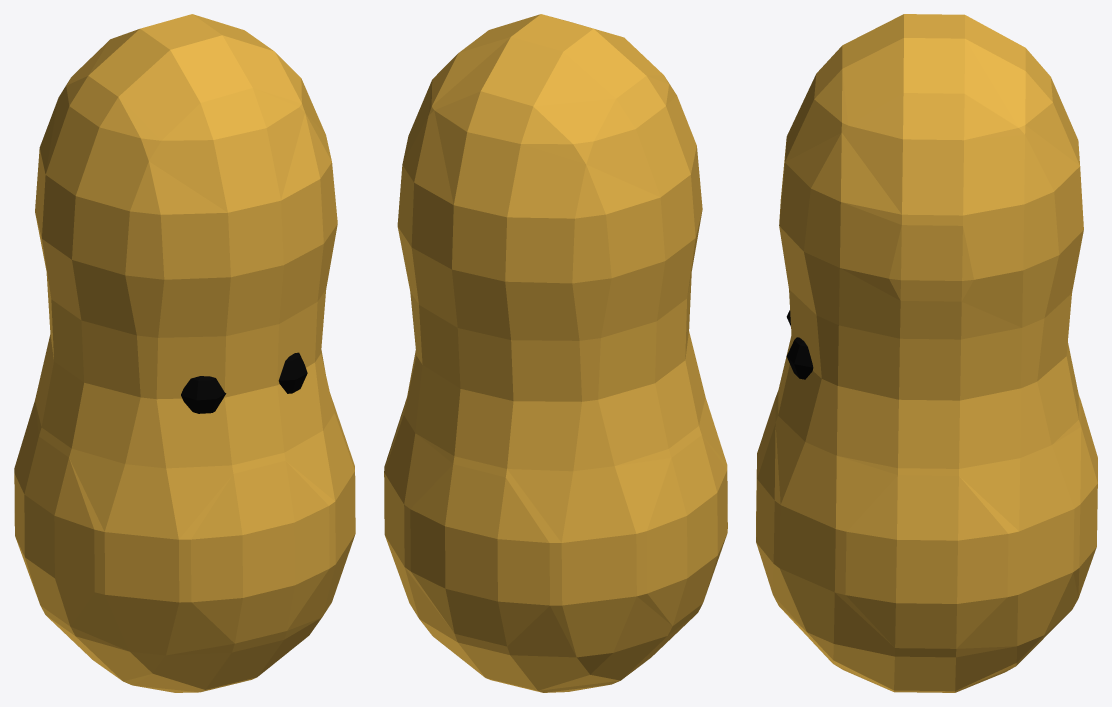
Rendered from Peanut.fbx.
The picture shows the model from 3 angles, left to right: view 1: azimuth 30°, elevation 25°; view 2: azimuth 150°, elevation 25°; view 3: azimuth 270°, elevation 25°; orthographic projection.
Visible parts, largest first — view 1: Sphere, Sphere.001; view 2: Sphere; view 3: Sphere, Sphere.001.
Boxes of the visible parts, left/top/right/bottom form: Sphere: left=14, top=14, right=355, bottom=692; Sphere.001: left=181, top=352, right=307, bottom=413; Sphere: left=384, top=14, right=727, bottom=692; Sphere: left=756, top=14, right=1097, bottom=692; Sphere.001: left=786, top=310, right=813, bottom=379.
Bounding box in the file's own units: 200 × 421 × 200.
